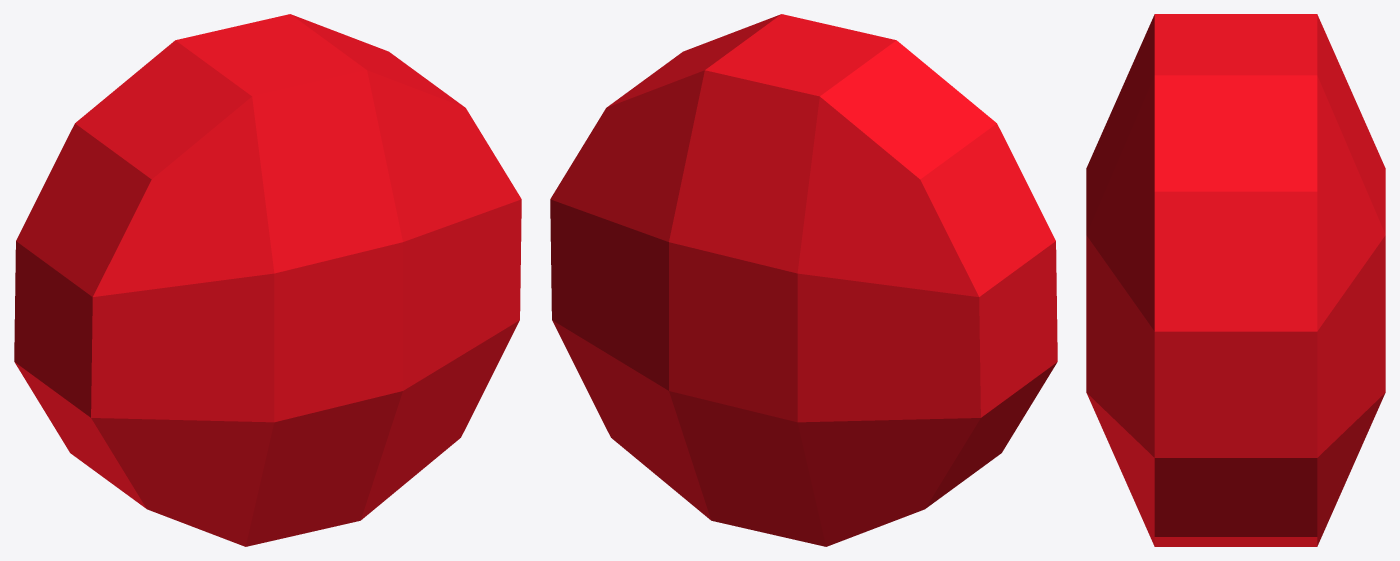
File: Rubí.fbx
3 renders of one model, left to right at view 1: azimuth 30°, elevation 25°; view 2: azimuth 150°, elevation 25°; view 3: azimuth 270°, elevation 25°, orthographic. The views are drawn at different scales.
Visible parts, largest first — view 1: Rubí; view 2: Rubí; view 3: Rubí.
Boxes of the visible parts, box(x1,y1,x2,y2) form: Rubí: box(14, 14, 521, 546); Rubí: box(550, 14, 1057, 546); Rubí: box(1086, 14, 1385, 546).
Size of the model in its own units: 183 by 183 by 104.
